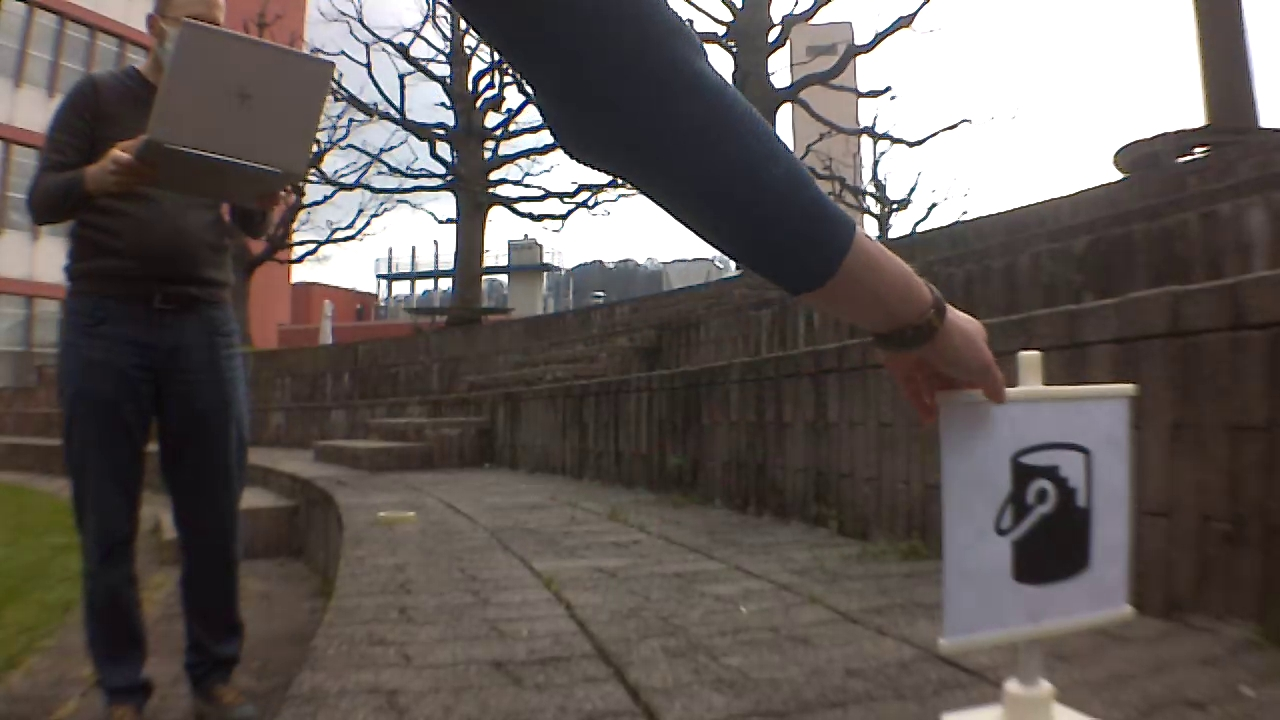bucket: (988, 442, 1100, 585)
